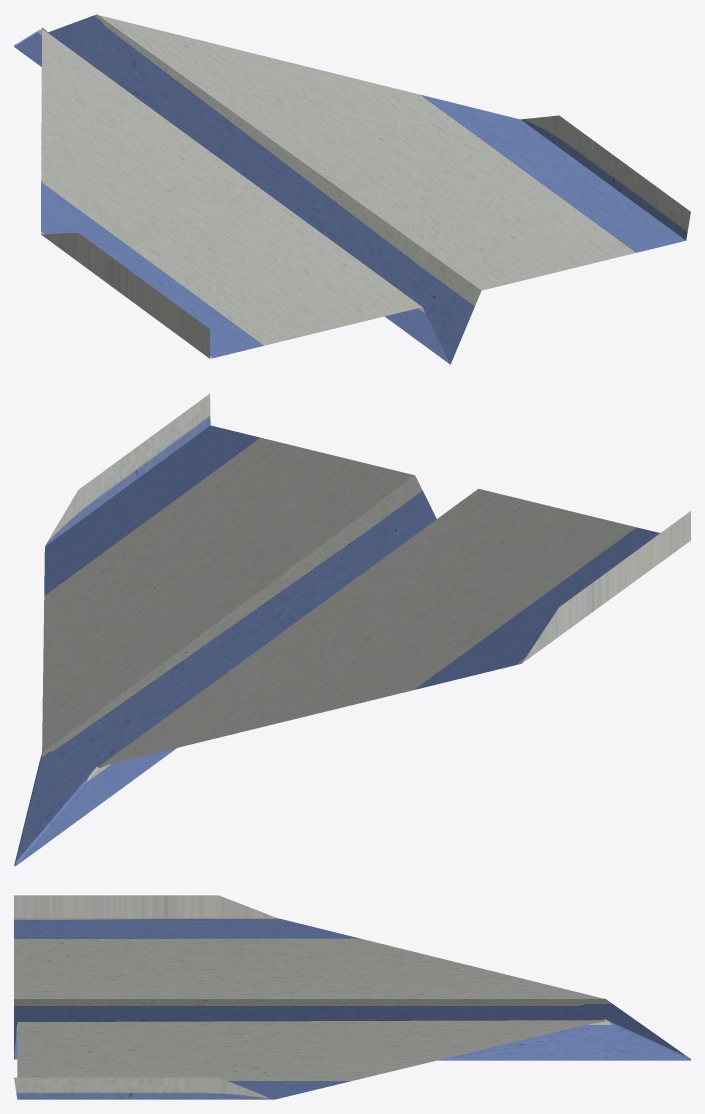
File: BluePaperPlaneOne.obj
The picture shows the model from 3 angles, top to bottom: view 1: azimuth 30°, elevation 25°; view 2: azimuth 150°, elevation 25°; view 3: azimuth 270°, elevation 25°; orthographic projection. The views are drawn at different scales.
Visible parts, largest first — view 1: Layer0_001; view 2: Layer0_001; view 3: Layer0_001.
Boxes of the visible parts, x1,y1,x2,y2 form: Layer0_001: [14, 14, 690, 364]; Layer0_001: [14, 394, 690, 866]; Layer0_001: [14, 895, 690, 1099].
Size of the model in its own units: 12.64 by 2.39 by 19.84.
Materials: 1 (1 with a texture image).
